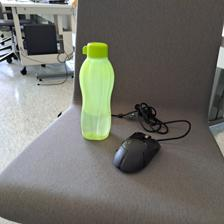bottle: (78, 41, 114, 141)
mouse: (111, 130, 160, 176)
